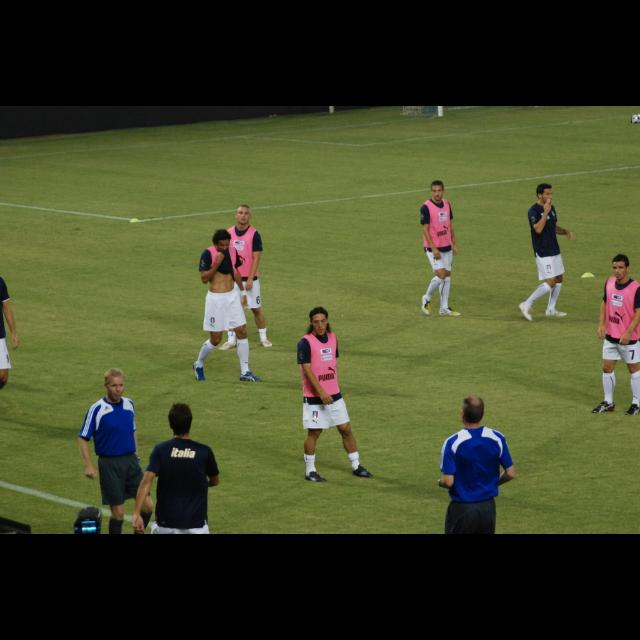Football: (631, 113, 639, 123)
